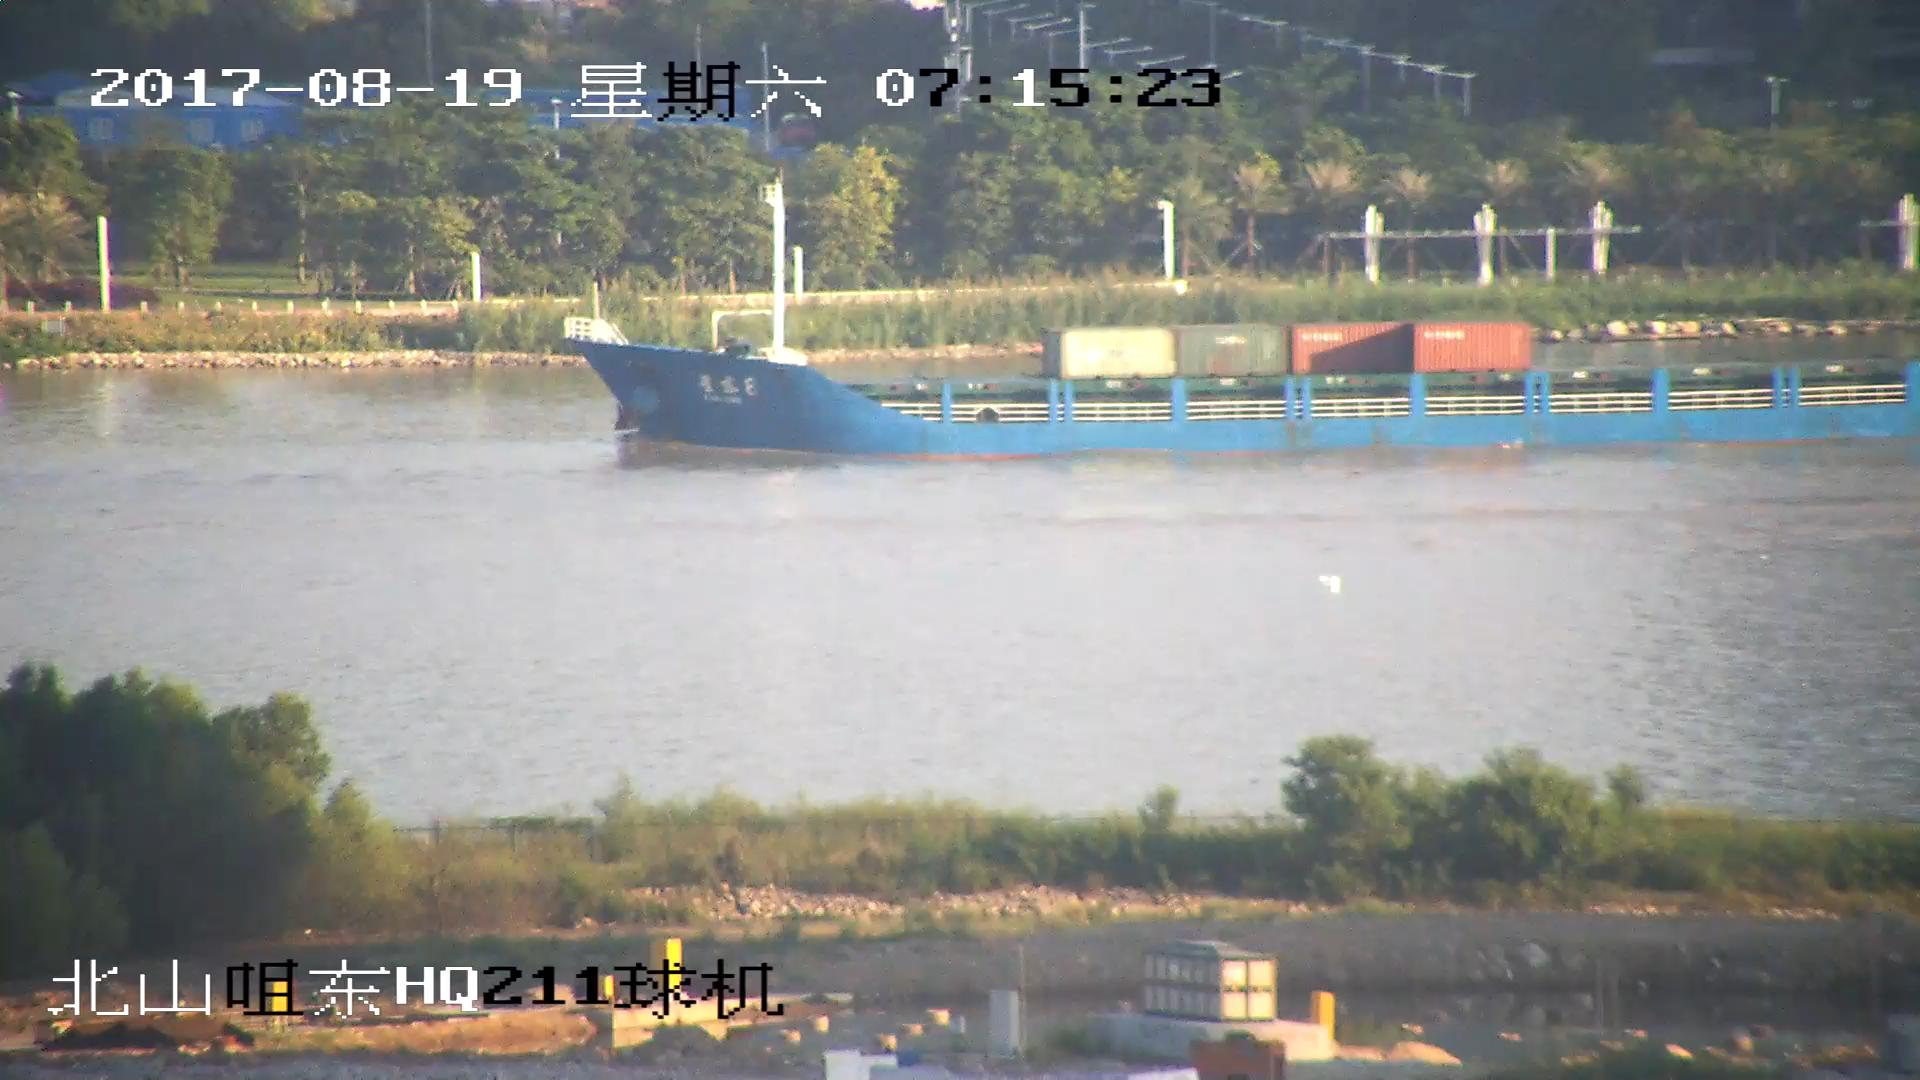general cargo ship: (561, 187, 1920, 459)
